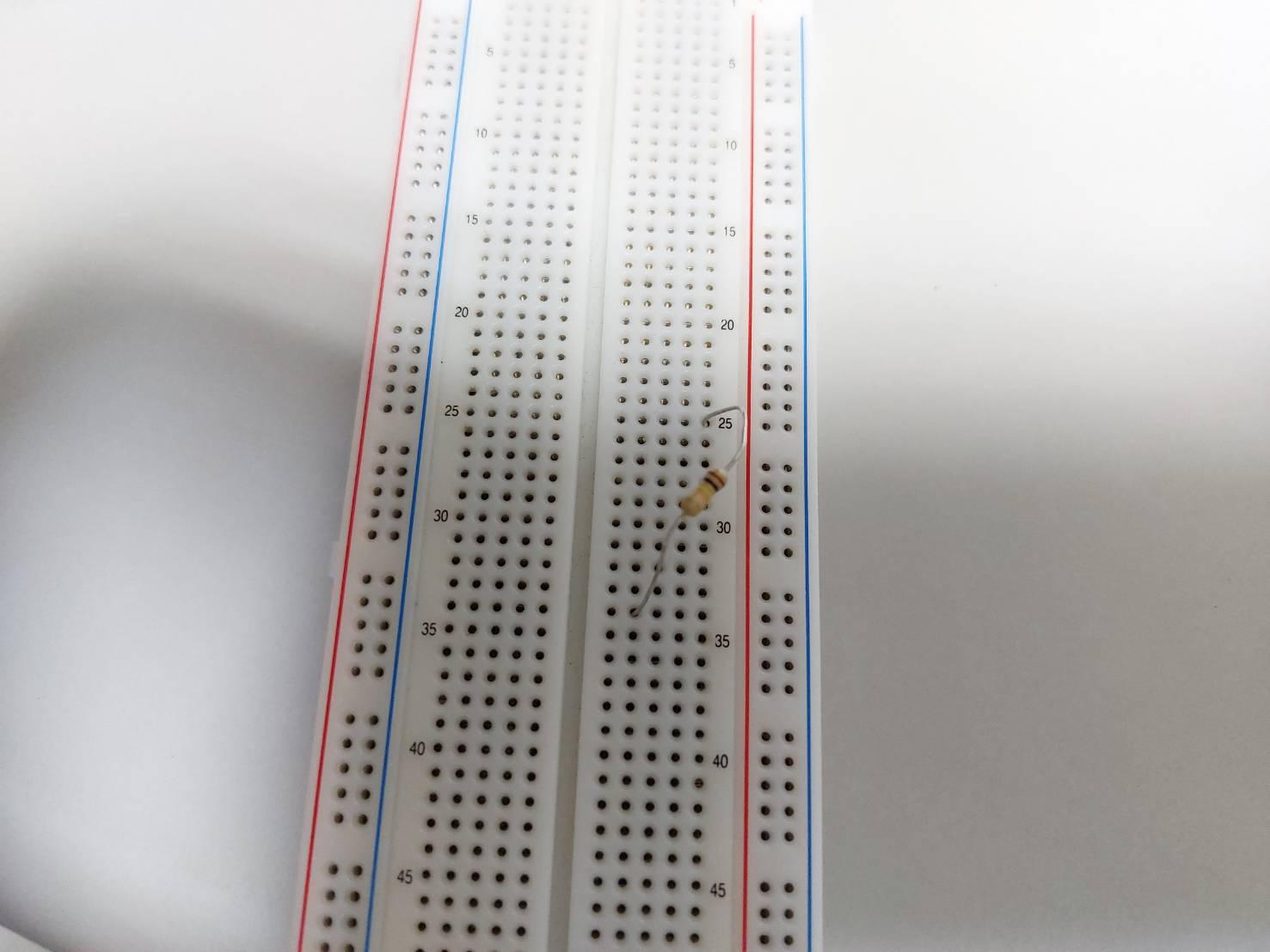resistor: (679, 471, 727, 518)
